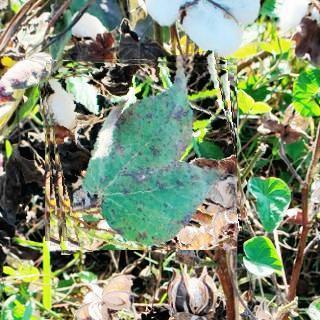leaf spot: (42, 55, 237, 250)
